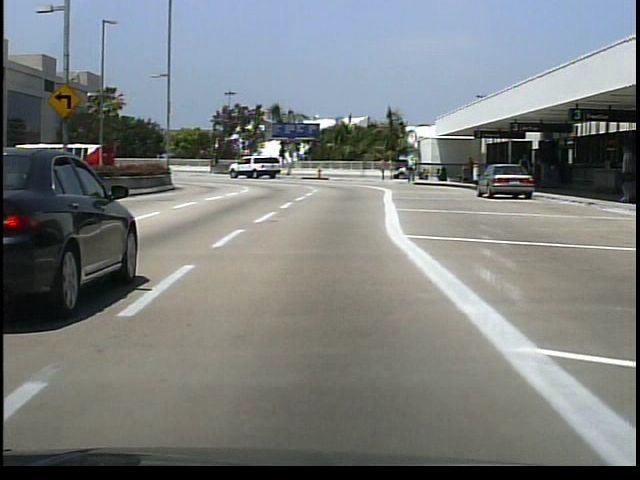person: (517, 150, 536, 194), (464, 157, 477, 187), (408, 153, 418, 185), (379, 156, 388, 181), (388, 157, 396, 181)
